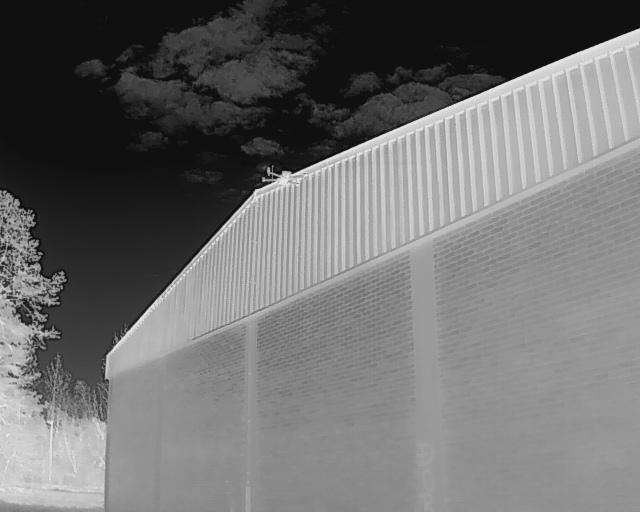drone: (253, 167, 315, 203)
